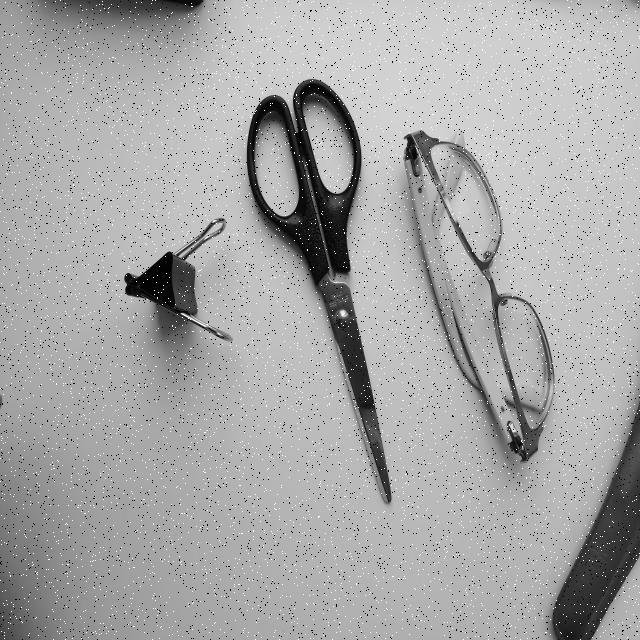scissors: (221, 40, 409, 524)
